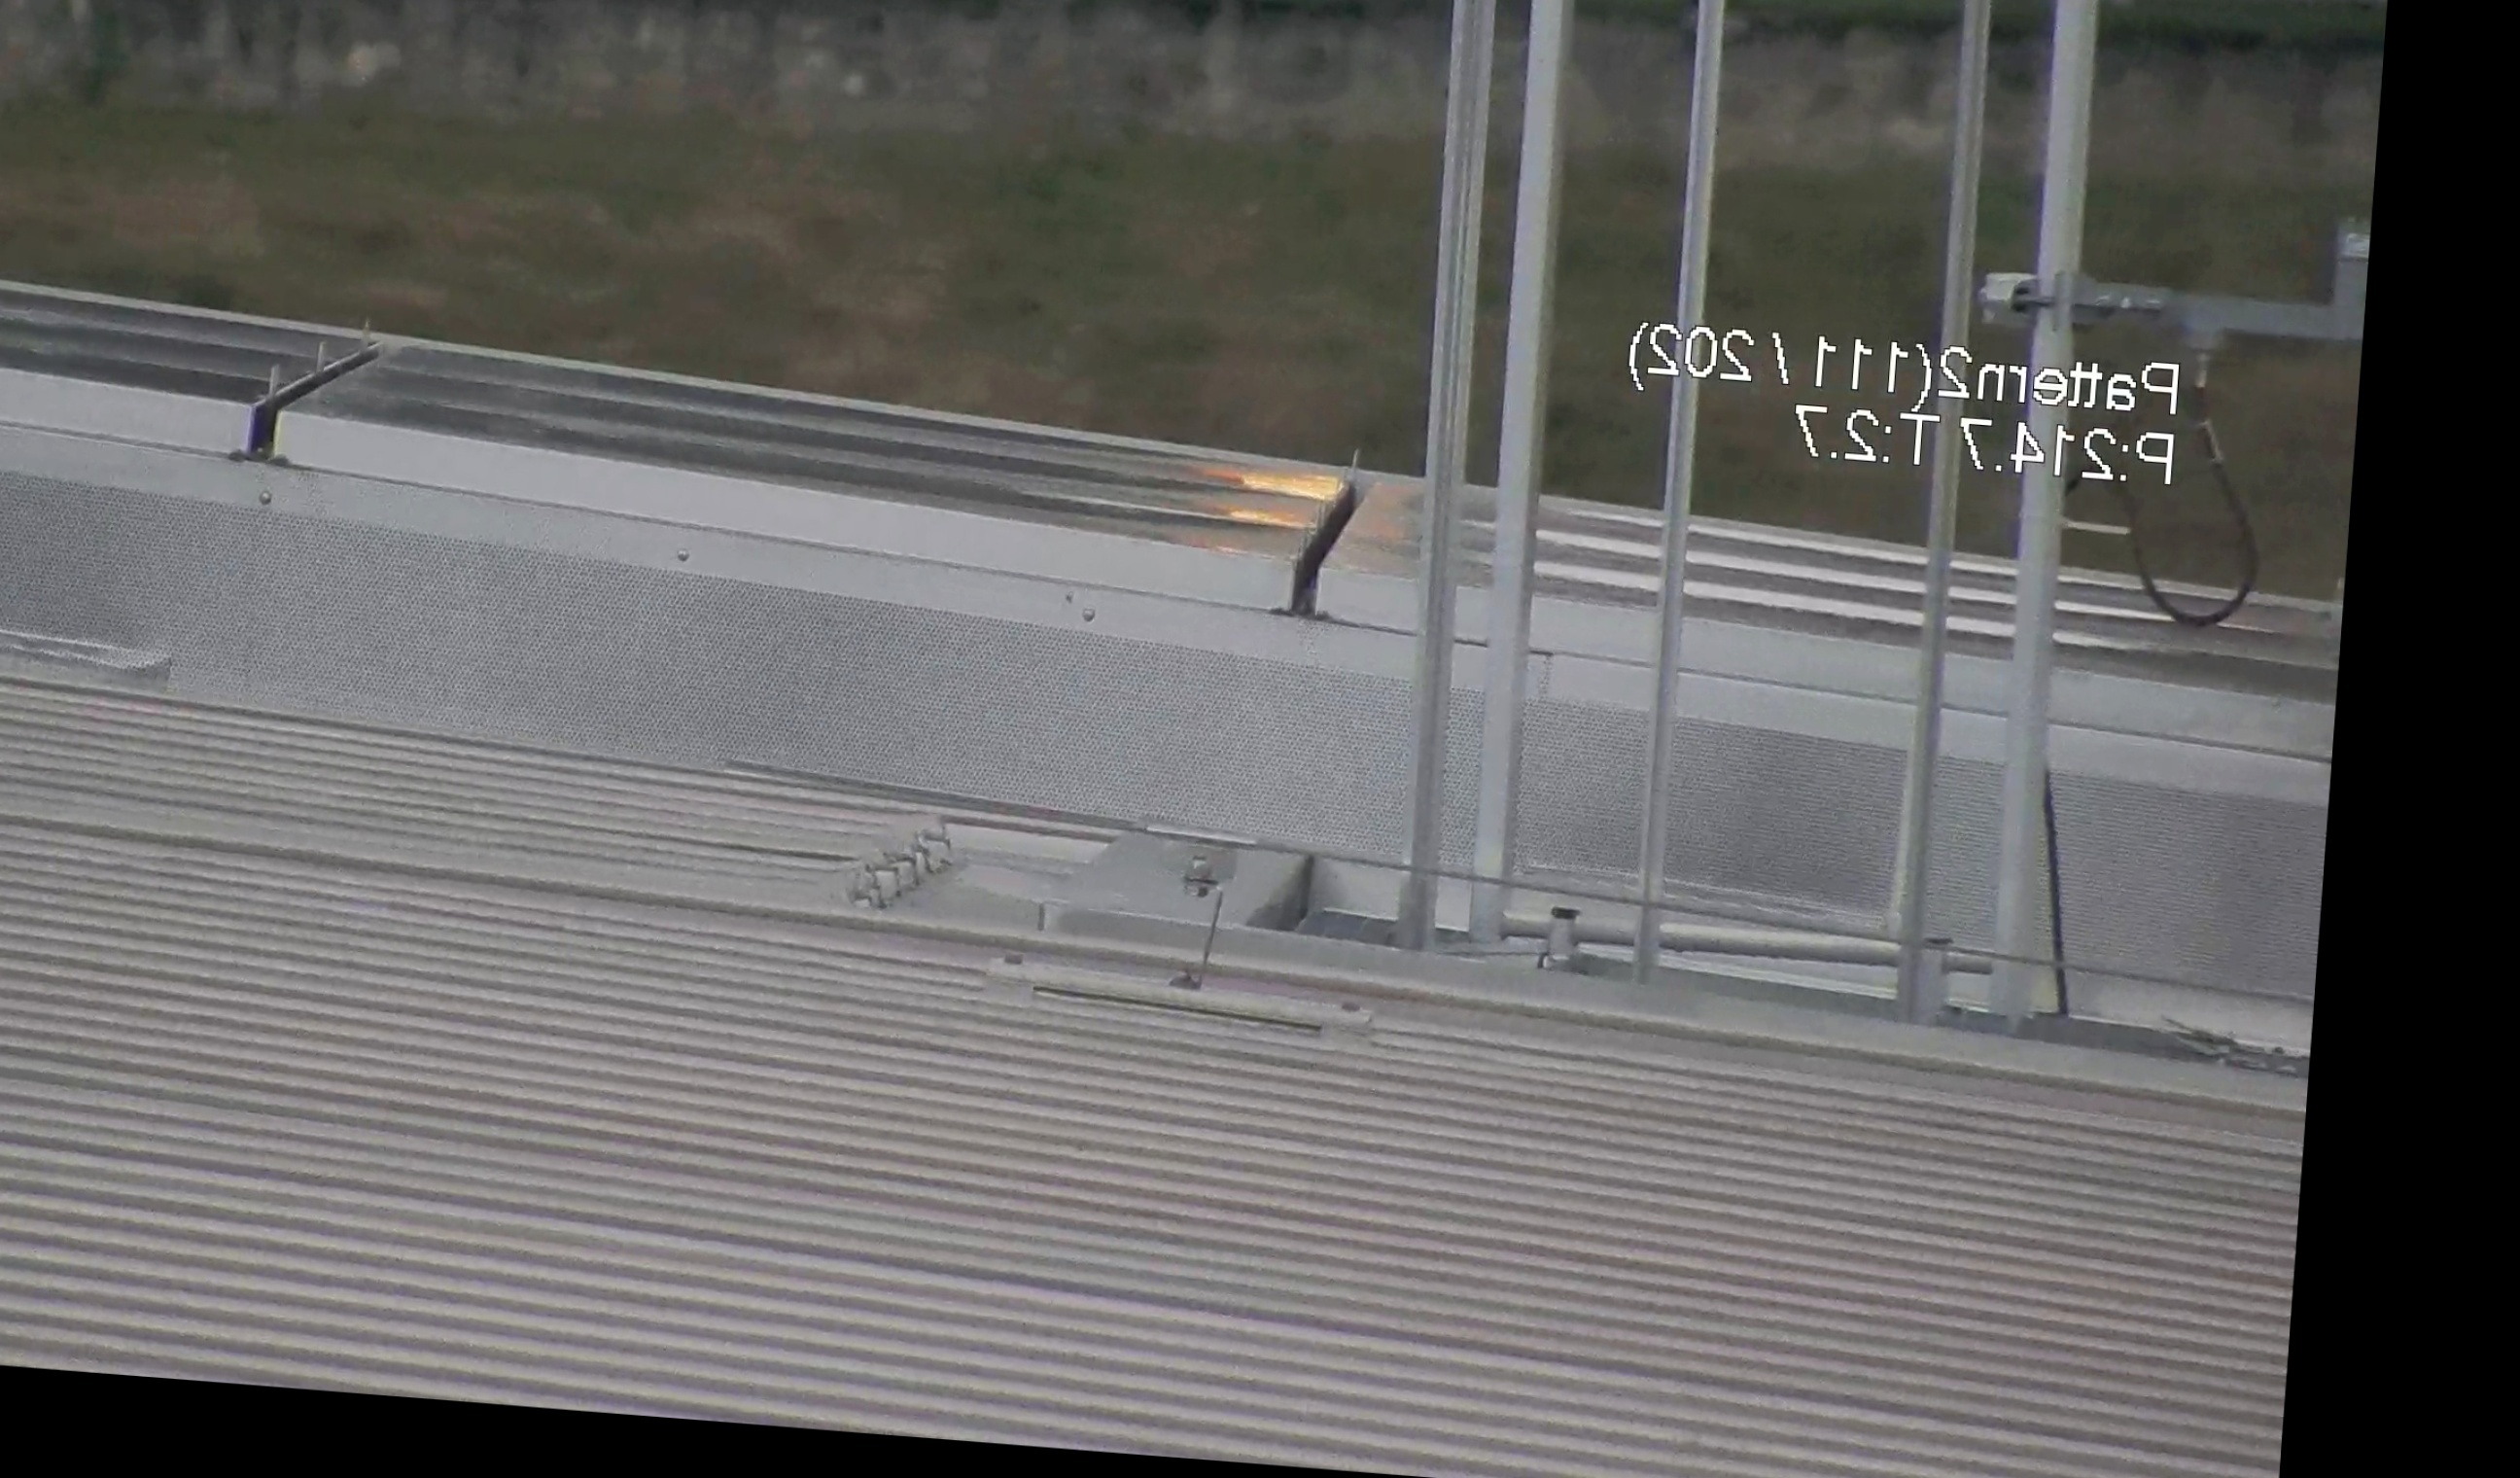Other: (1254, 443, 1393, 635)
